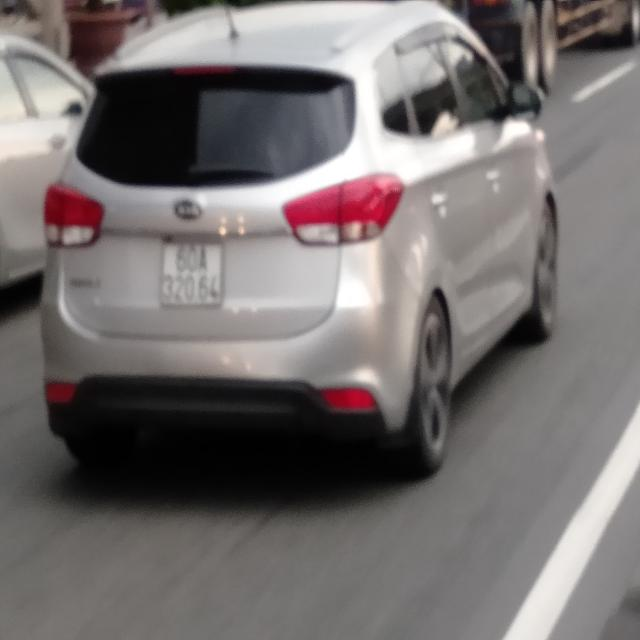bien_trang: (159, 238, 227, 308)
